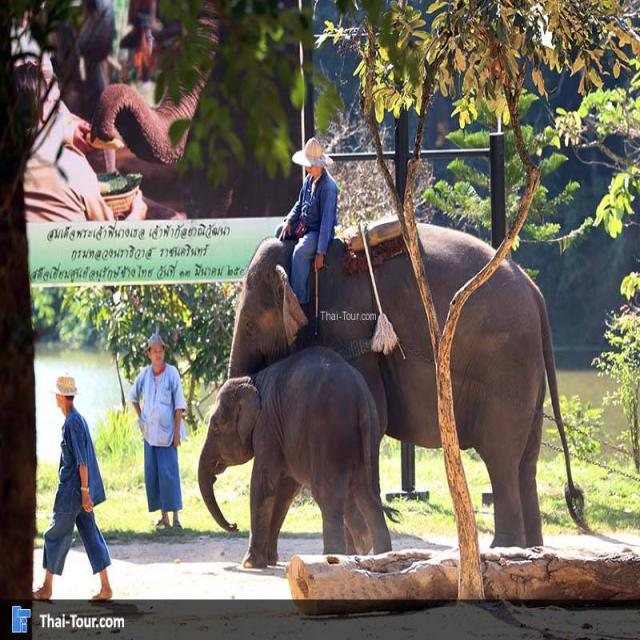Elephant: (204, 196, 580, 568), (180, 355, 394, 581)
